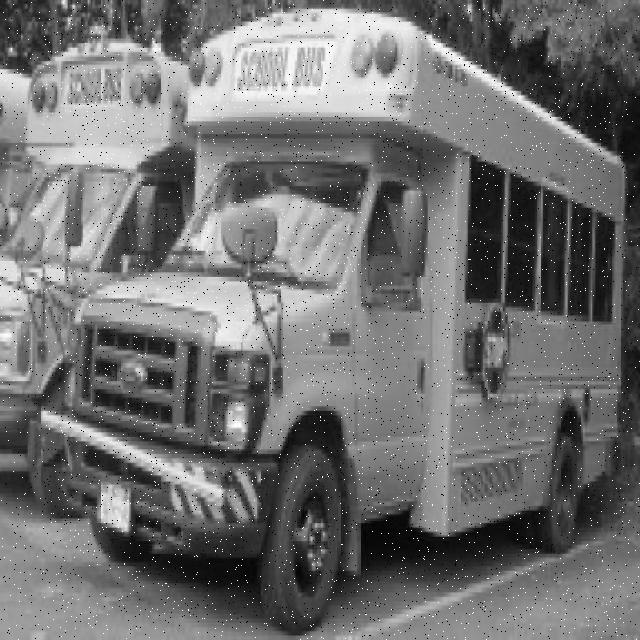Bus- Small: (43, 9, 629, 637)
